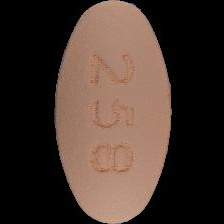33261-078: (0, 0, 224, 224)
